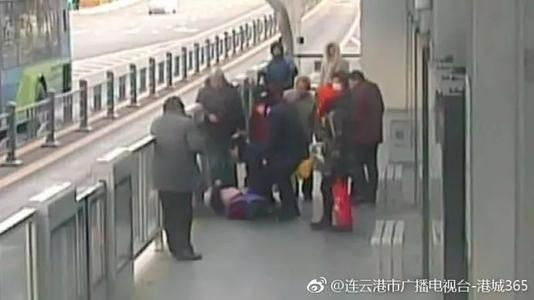falling: (200, 178, 289, 222)
